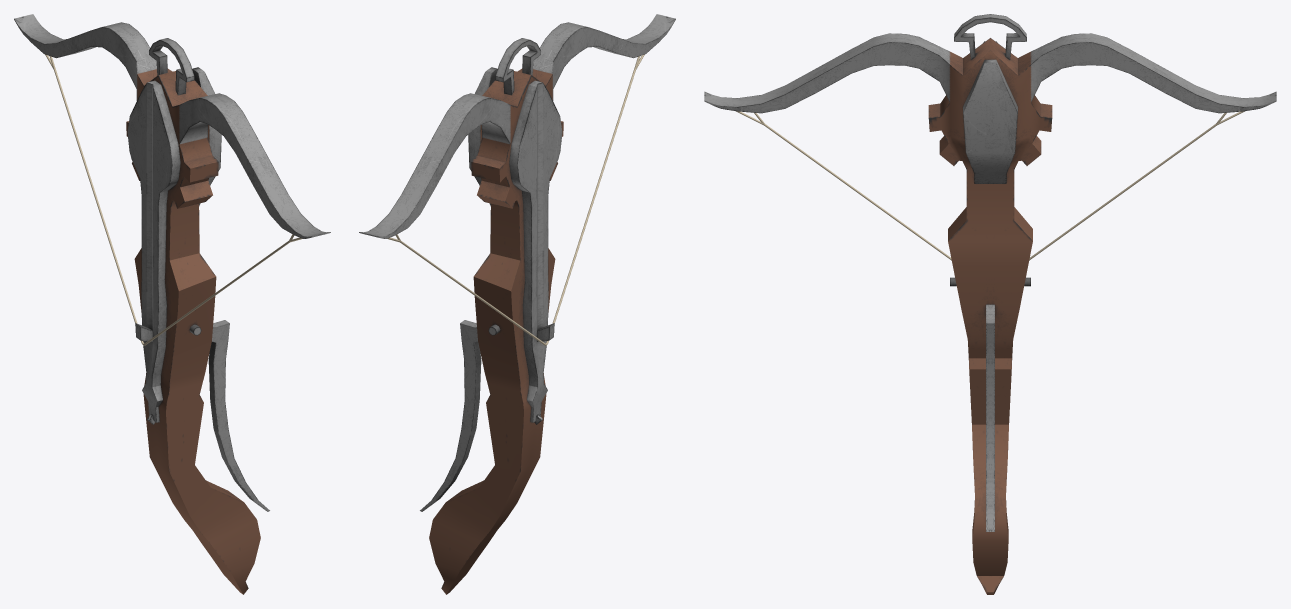
The model's file is crossbow.glb.
3 views of the same model, side by side, from view 1: azimuth 30°, elevation 25°; view 2: azimuth 150°, elevation 25°; view 3: azimuth 270°, elevation 25° (orthographic). The views are drawn at different scales.
Parts seen in each view (by area): view 1: Crossbow; view 2: Crossbow; view 3: Crossbow.
Boxes of the visible parts, x1=… form: Crossbow: x1=14, y1=14, x2=330, y2=594; Crossbow: x1=359, y1=14, x2=675, y2=594; Crossbow: x1=704, y1=14, x2=1276, y2=594.
Size of the model in its own units: 0.3984 by 1.66 by 1.58.
Materials: 1 (1 with a texture image).
